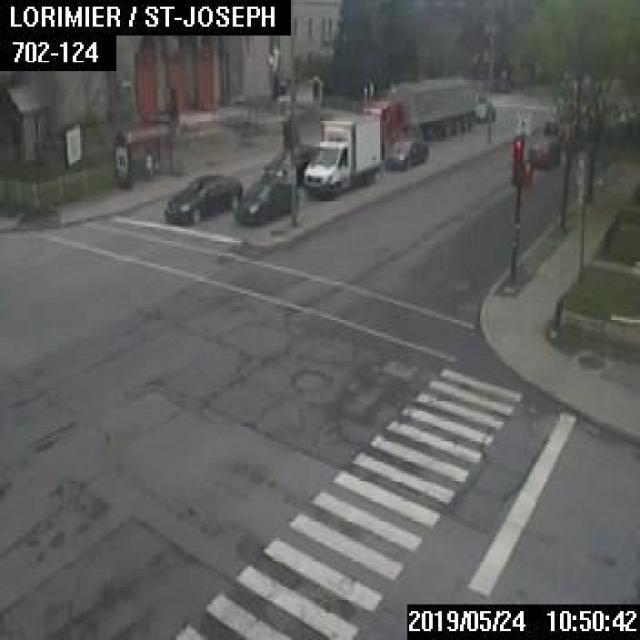vehicle: (361, 76, 473, 158), (302, 114, 379, 196), (162, 172, 241, 225), (230, 174, 298, 225), (260, 142, 313, 180), (383, 137, 428, 169), (527, 125, 560, 167), (474, 95, 494, 121)
